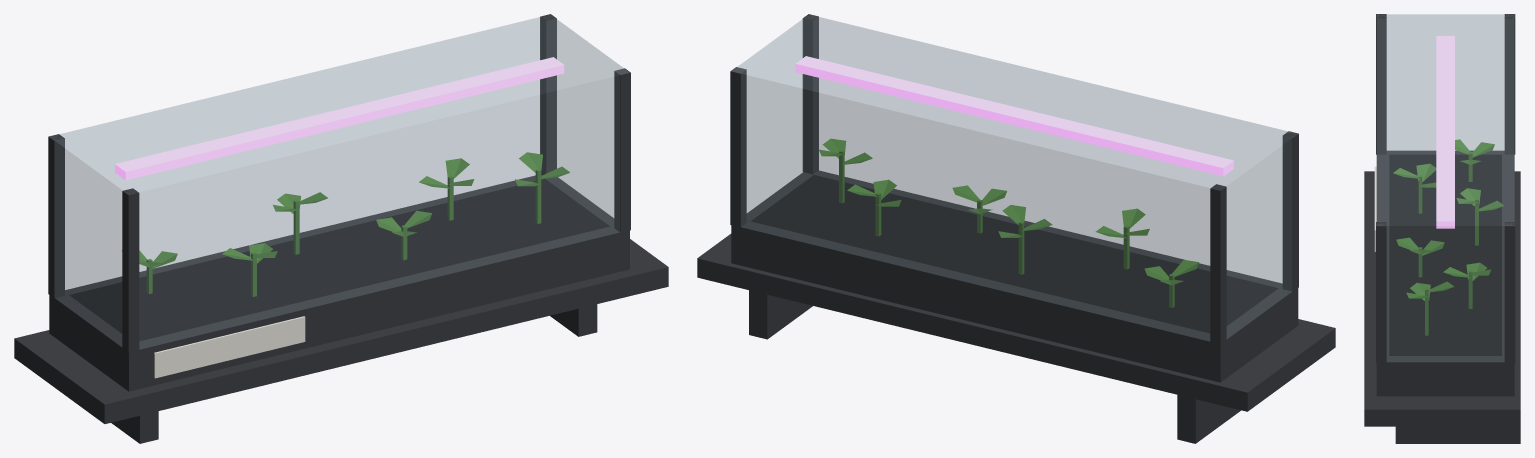
The model's file is dc_plant_lab.glb.
The picture shows the model from 3 angles, left to right: view 1: azimuth 30°, elevation 25°; view 2: azimuth 150°, elevation 25°; view 3: azimuth 270°, elevation 25°; orthographic projection. The views are drawn at different scales.
Parts seen in each view (by area): view 1: dc_plant_lab, plant_leaves; view 2: dc_plant_lab, plant_leaves; view 3: dc_plant_lab, plant_leaves.
Part boxes in pixels (left/top/right/bottom): dc_plant_lab: left=14, top=14, right=668, bottom=443; plant_leaves: left=121, top=152, right=569, bottom=296; dc_plant_lab: left=697, top=14, right=1335, bottom=443; plant_leaves: left=819, top=138, right=1199, bottom=307; dc_plant_lab: left=1364, top=14, right=1520, bottom=443; plant_leaves: left=1393, top=139, right=1504, bottom=335.
Size of what is drawn, in the model's own units: 0.9 by 0.4 by 0.25.
